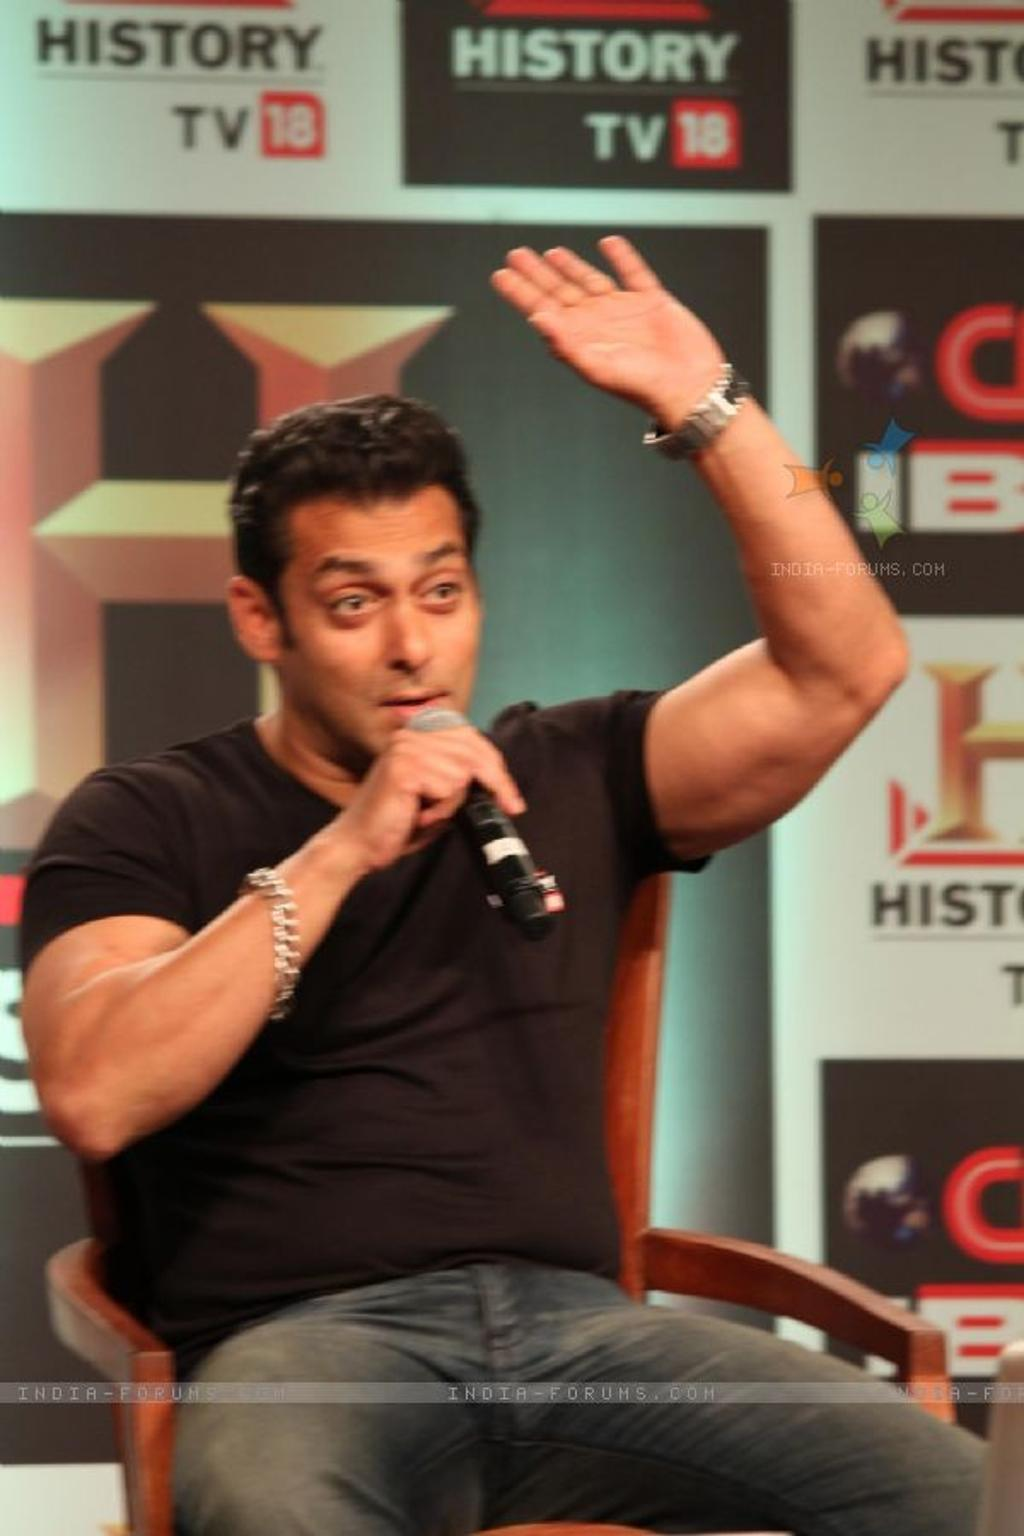face: (283, 496, 478, 760)
